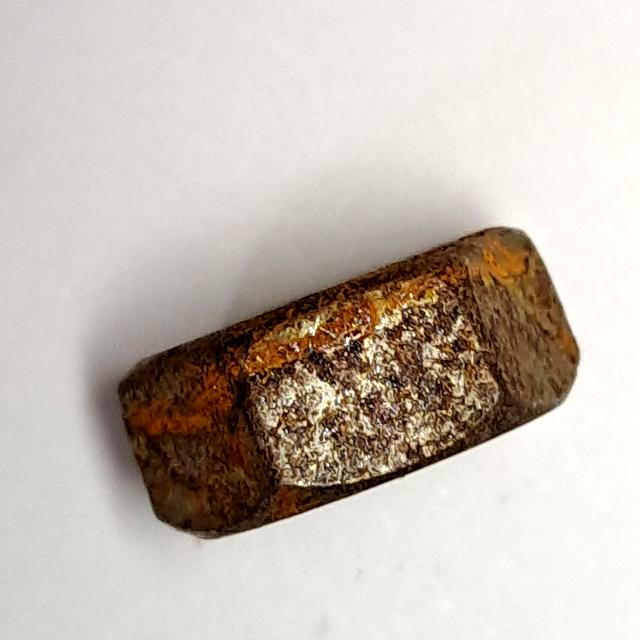Side_Rust: (106, 211, 592, 548)
